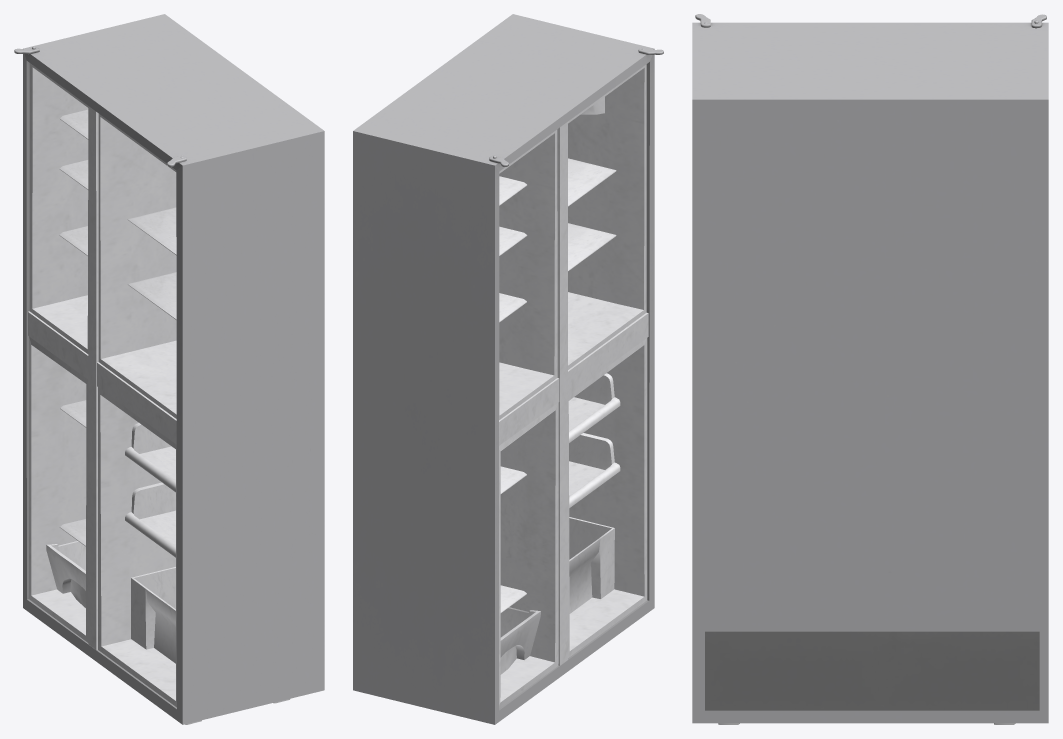
The model's file is SM_Fridge_A1.fbx.
3 renders of one model, left to right at view 1: azimuth 30°, elevation 25°; view 2: azimuth 150°, elevation 25°; view 3: azimuth 270°, elevation 25°, orthographic. The views are drawn at different scales.
Visible parts, largest first — view 1: SM_Fridge_A1; view 2: SM_Fridge_A1; view 3: SM_Fridge_A1.
Part boxes in pixels (x1,y1,x2,y2): SM_Fridge_A1: [14, 14, 324, 724]; SM_Fridge_A1: [353, 14, 663, 724]; SM_Fridge_A1: [692, 14, 1048, 724].
Bounding box in the file's own units: 58.9 × 106 × 210.
Materials: 1 (1 with a texture image).
